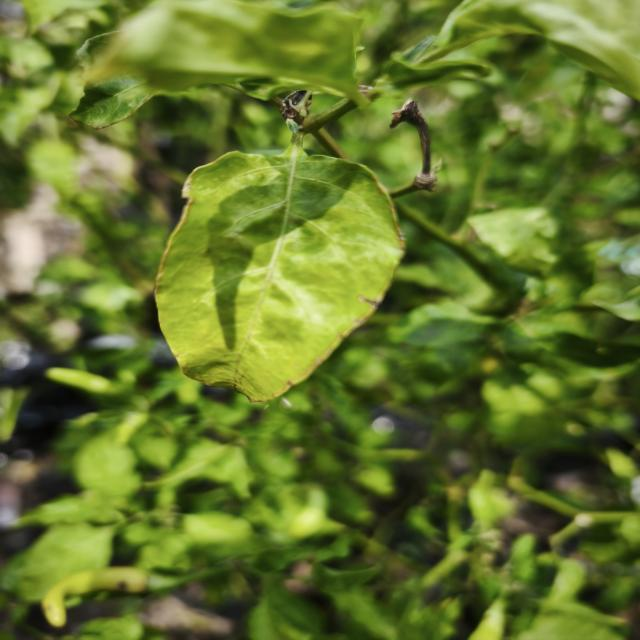Virus Kuning: (153, 134, 407, 403)
